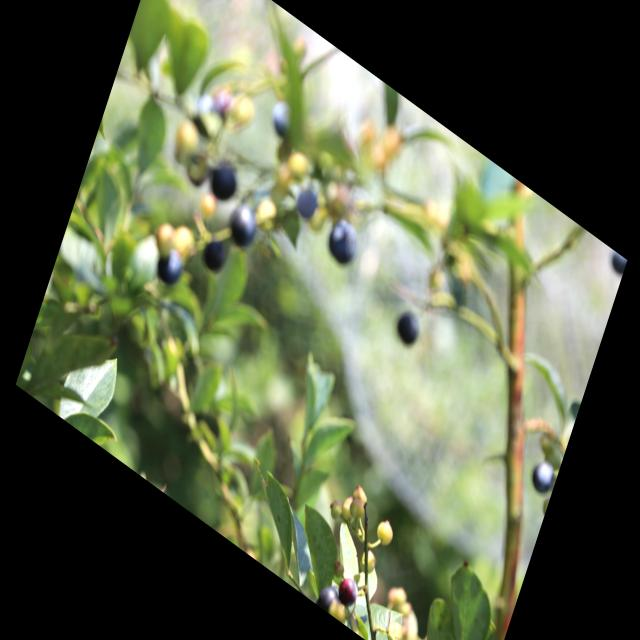blueberry: (216, 192, 262, 258), (323, 213, 364, 274), (205, 154, 242, 211), (152, 238, 188, 293), (197, 229, 231, 282), (390, 302, 426, 351), (526, 451, 559, 500), (291, 180, 321, 224), (266, 96, 294, 140)
blueberry-halfripe: (332, 569, 362, 613)
blueberry-unripe: (372, 515, 397, 553), (358, 545, 377, 574), (347, 495, 366, 521), (352, 482, 370, 504), (340, 495, 355, 520)
